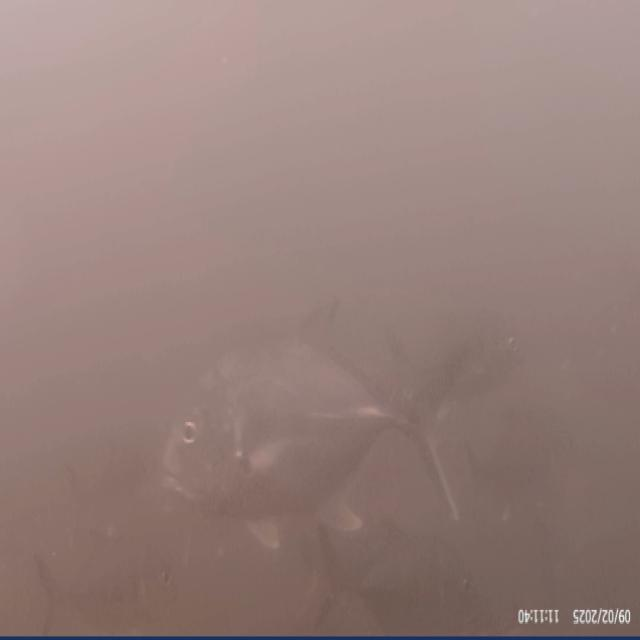ikan: (157, 294, 516, 552)
